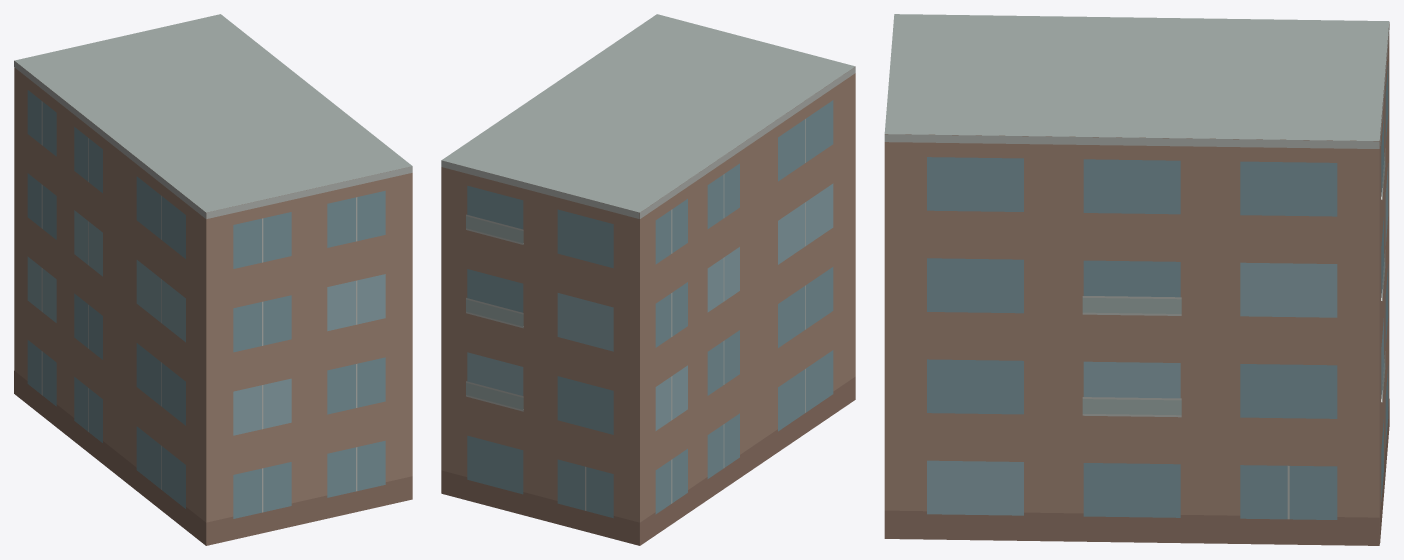
Rendered from survey-upis-32949610.glb.
3 views of the same model, side by side, from view 1: azimuth 30°, elevation 25°; view 2: azimuth 150°, elevation 25°; view 3: azimuth 270°, elevation 25° (orthographic). The views are drawn at different scales.
Parts seen in each view (by area): view 1: survey-upis-32949610.tmp; view 2: survey-upis-32949610.tmp; view 3: survey-upis-32949610.tmp.
Boxes of the visible parts, x1=… form: survey-upis-32949610.tmp: x1=14, y1=14, x2=412, y2=545; survey-upis-32949610.tmp: x1=441, y1=14, x2=855, y2=545; survey-upis-32949610.tmp: x1=884, y1=14, x2=1389, y2=545.
Bounding box in the file's own units: 8.29 × 12.3 × 13.91.
